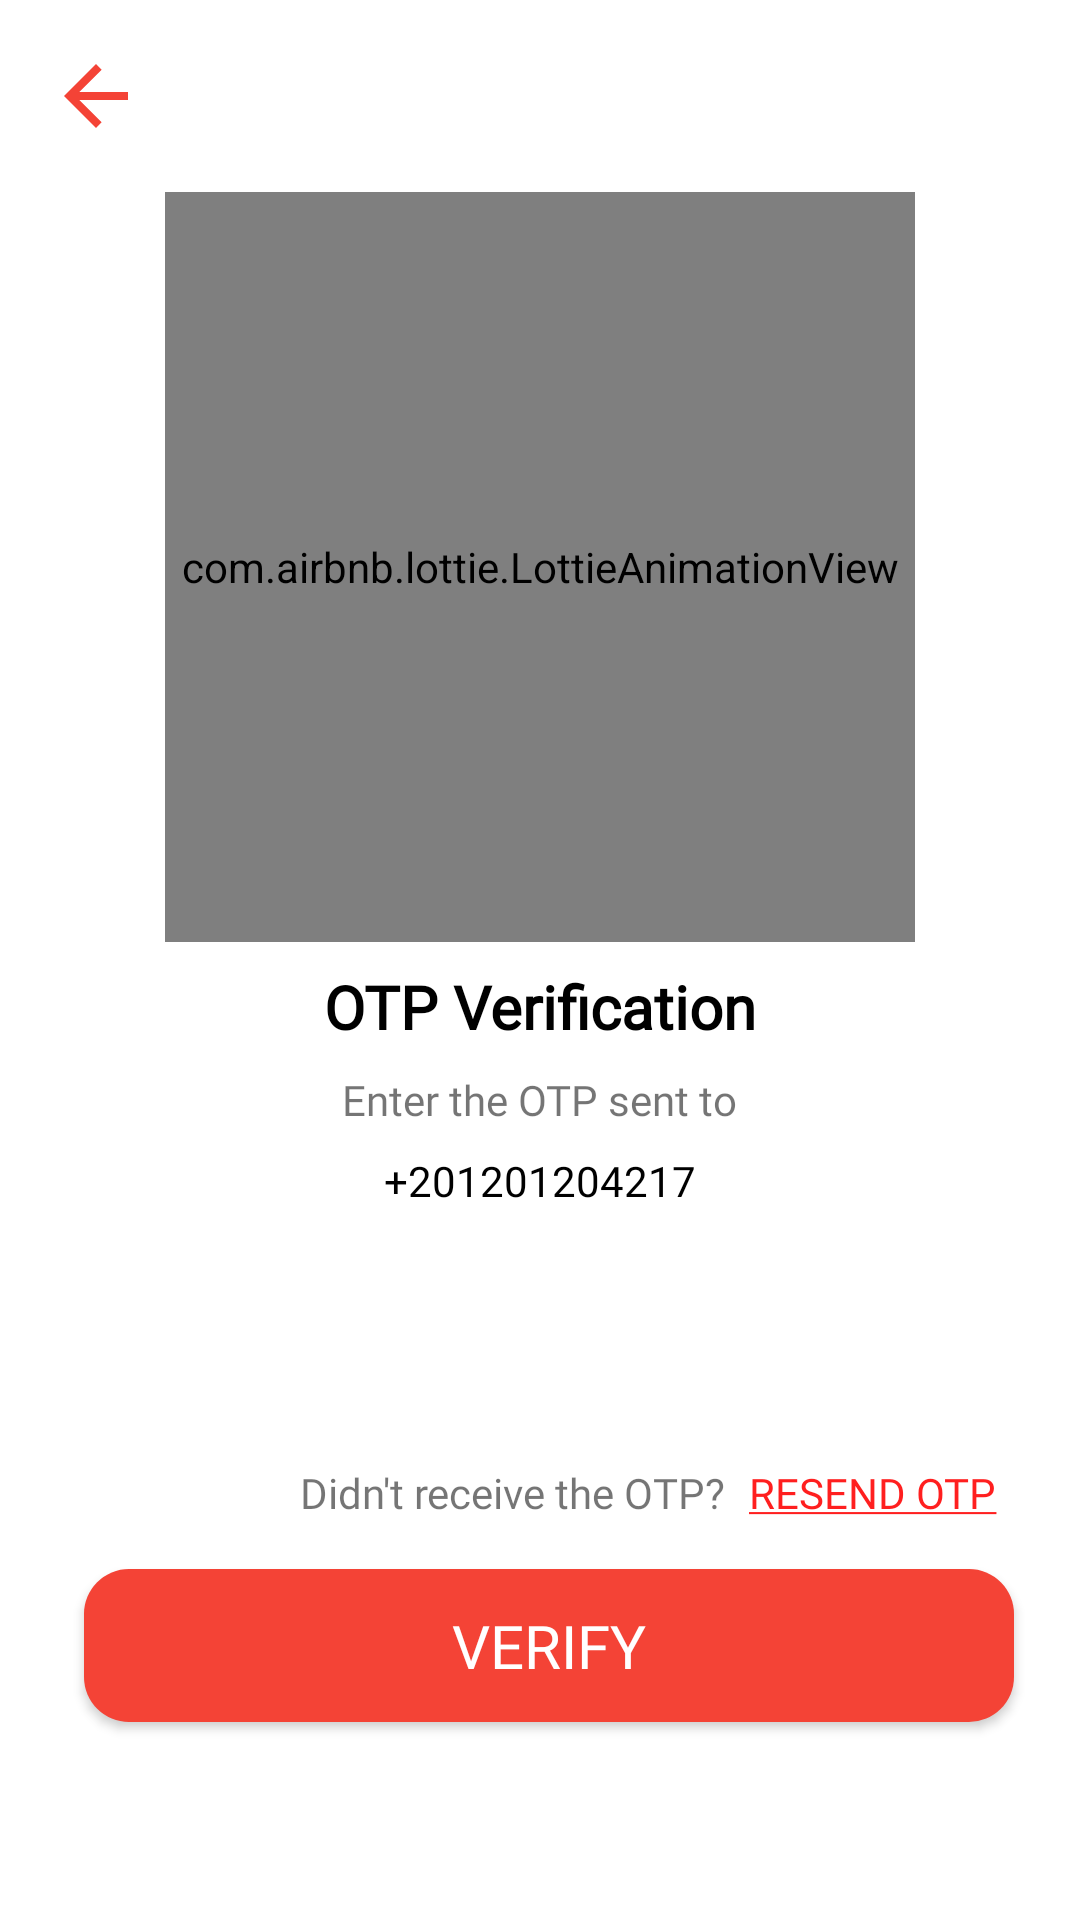

Icon bounding boxes for this 1080×1920 phone screenshot, format (x1, y1, x2, y2):
arrow back: (64, 64, 128, 128)
